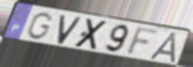9: (104, 24, 131, 54)
A: (147, 32, 178, 65)
F: (123, 26, 162, 58)
G: (25, 11, 55, 41)
V: (55, 14, 84, 46)
X: (72, 17, 110, 51)
